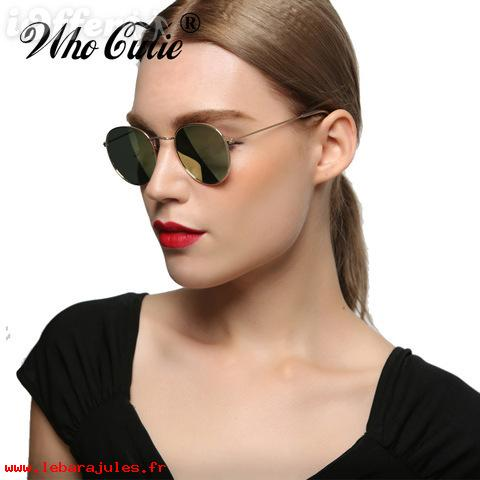sunglasses: (86, 108, 308, 201)
